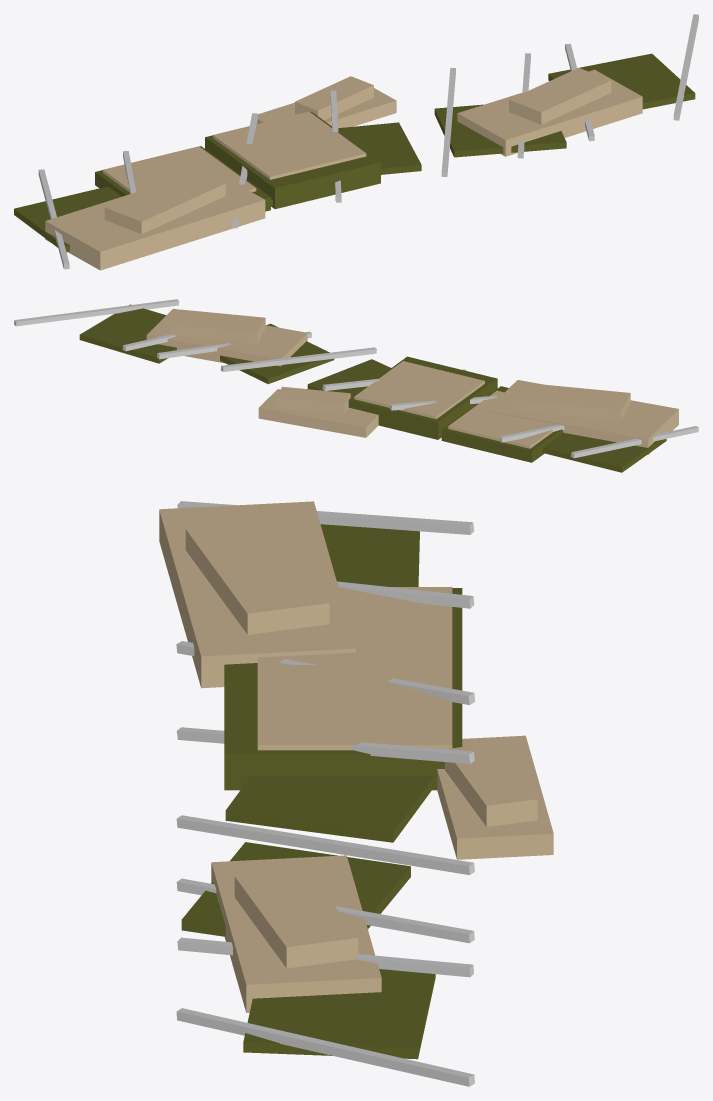
The model's file is SM_HescoCorto4_v1_Geotextil_e3_Brecha_LOD0.fbx.
3 views of the same model, one above another, from view 1: azimuth 30°, elevation 25°; view 2: azimuth 150°, elevation 25°; view 3: azimuth 270°, elevation 25° (orthographic). The views are drawn at different scales.
Parts seen in each view (by area): view 1: SM_hesco_piezas_v107_LOD0; view 2: SM_hesco_piezas_v107_LOD0; view 3: SM_hesco_piezas_v107_LOD0.
Boxes of the visible parts, <box> form: SM_hesco_piezas_v107_LOD0: <box>14,14,698,270</box>; SM_hesco_piezas_v107_LOD0: <box>14,299,698,472</box>; SM_hesco_piezas_v107_LOD0: <box>159,501,553,1086</box>.
Bounding box in the file's own units: 7.26 × 0.3263 × 2.02.
